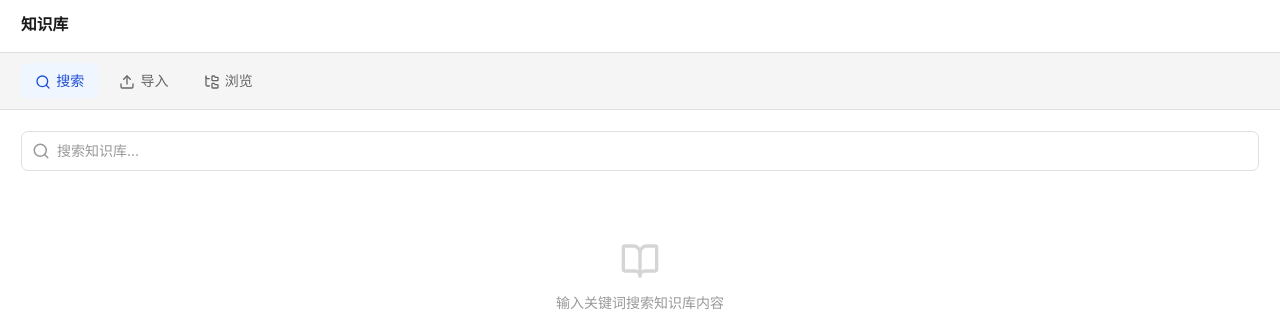
Test: KnowledgePanel › renders knowledge entries in the browse tab
Click the tab "浏览": (228, 80) [190, 63, 267, 98]
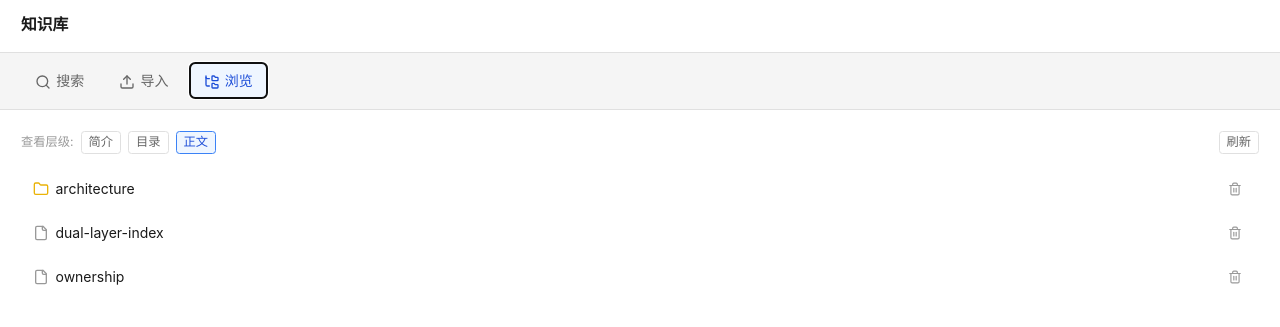
Check: the text "architecture" is shown, box [56, 178, 135, 199]
Check: the text "dual-layer-index" is shown, box [56, 222, 164, 243]
Check: the text "ownership" is shown, box [56, 266, 124, 287]
